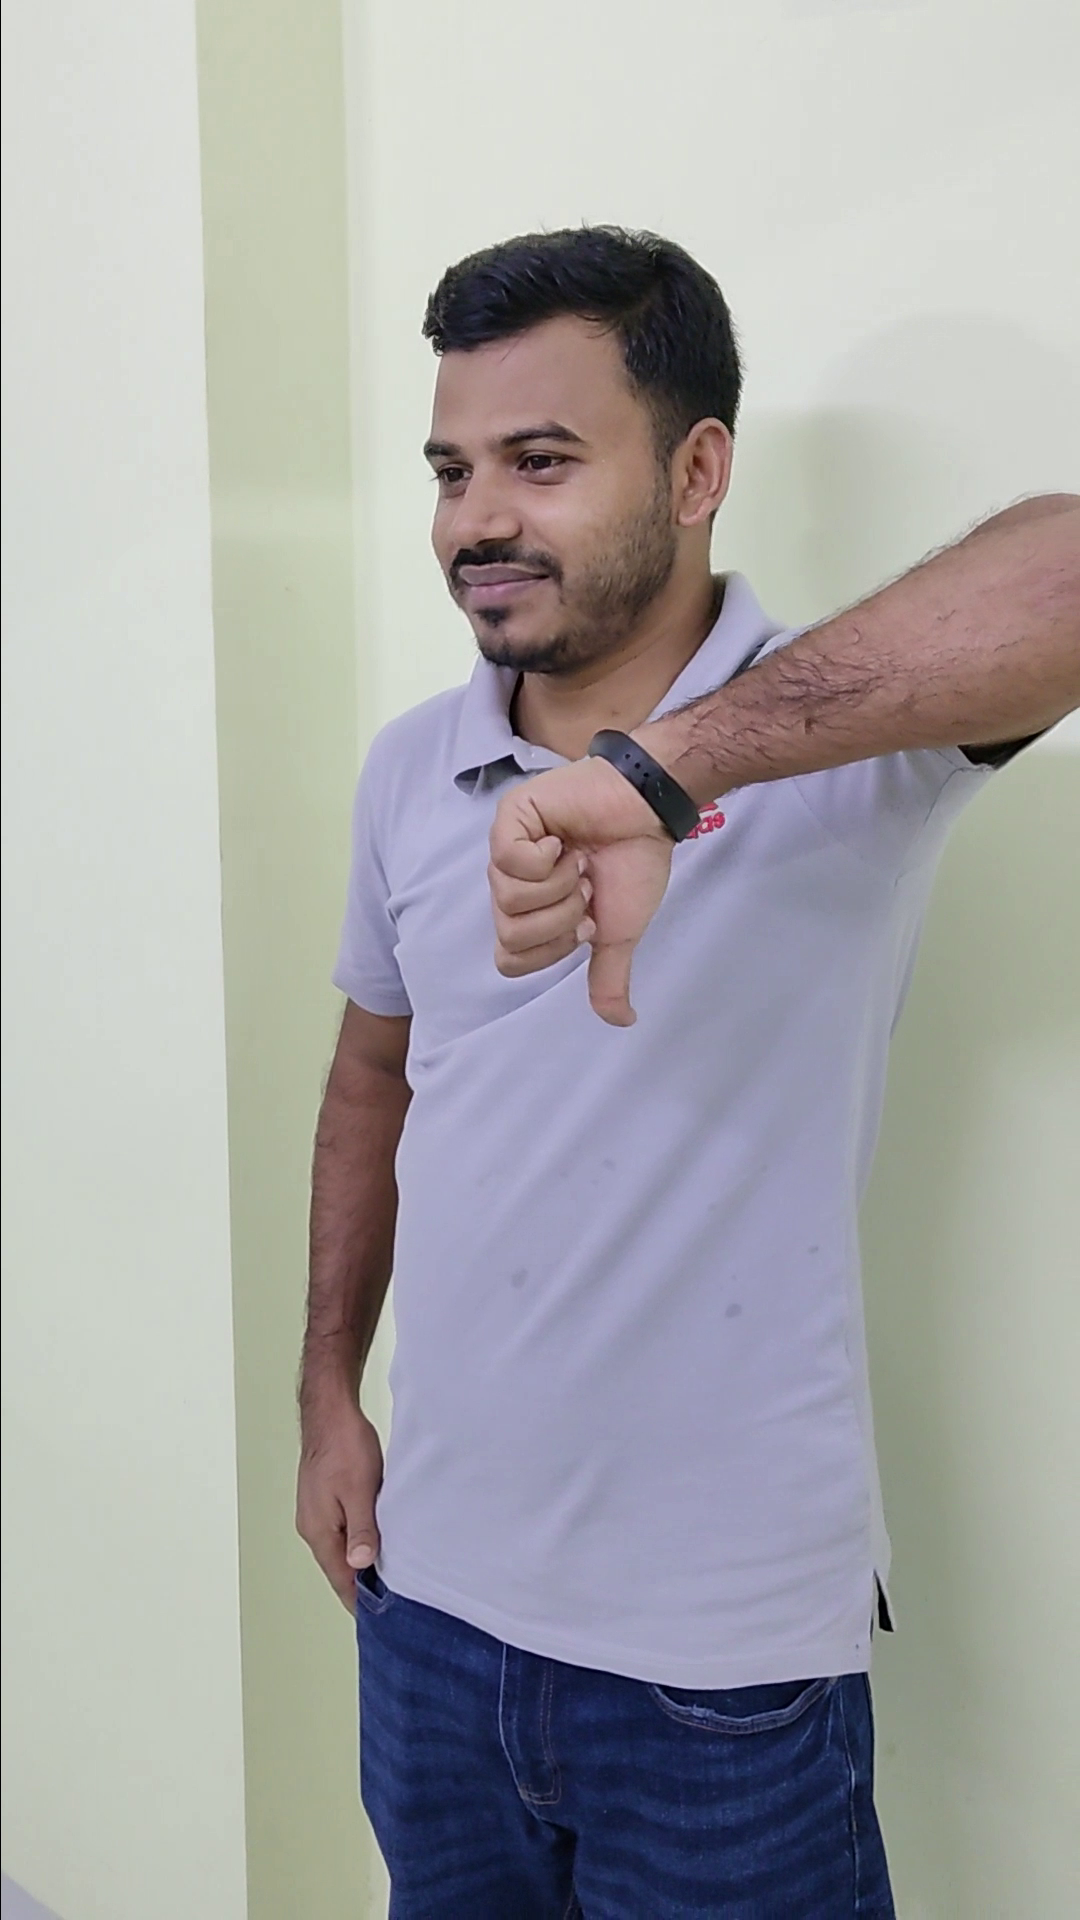Dislike: (464, 713, 694, 1040)
None: (266, 1348, 414, 1640)
